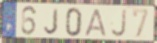0: (65, 7, 84, 38)
6: (21, 5, 38, 37)
7: (132, 8, 151, 40)
A: (84, 8, 108, 38)
J: (110, 8, 127, 39), (43, 8, 60, 36)
